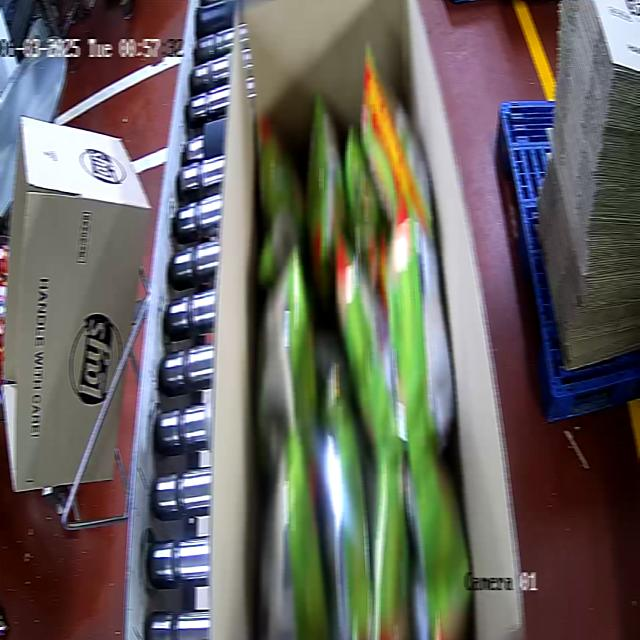YOGURT_HERB: (248, 42, 473, 637)
